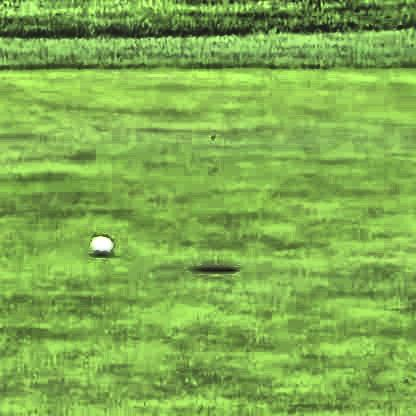golfball: (86, 231, 111, 255)
